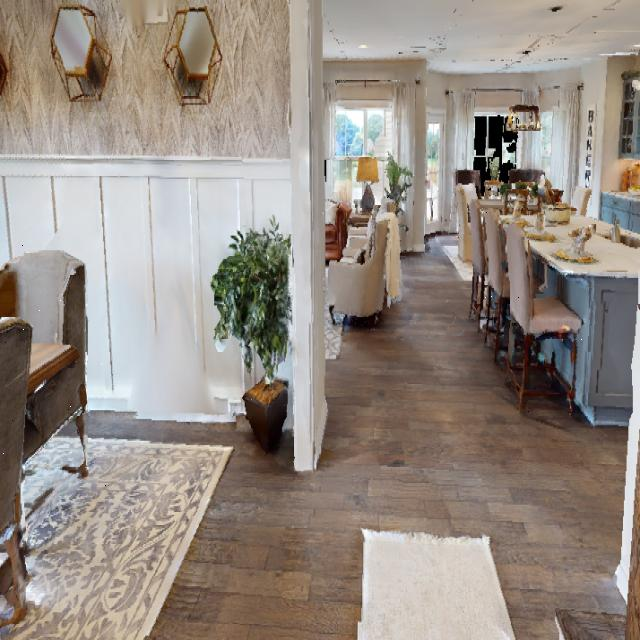chair: (0, 234, 106, 503), (502, 217, 586, 436), (480, 198, 513, 376)
sofa: (322, 192, 416, 343)
